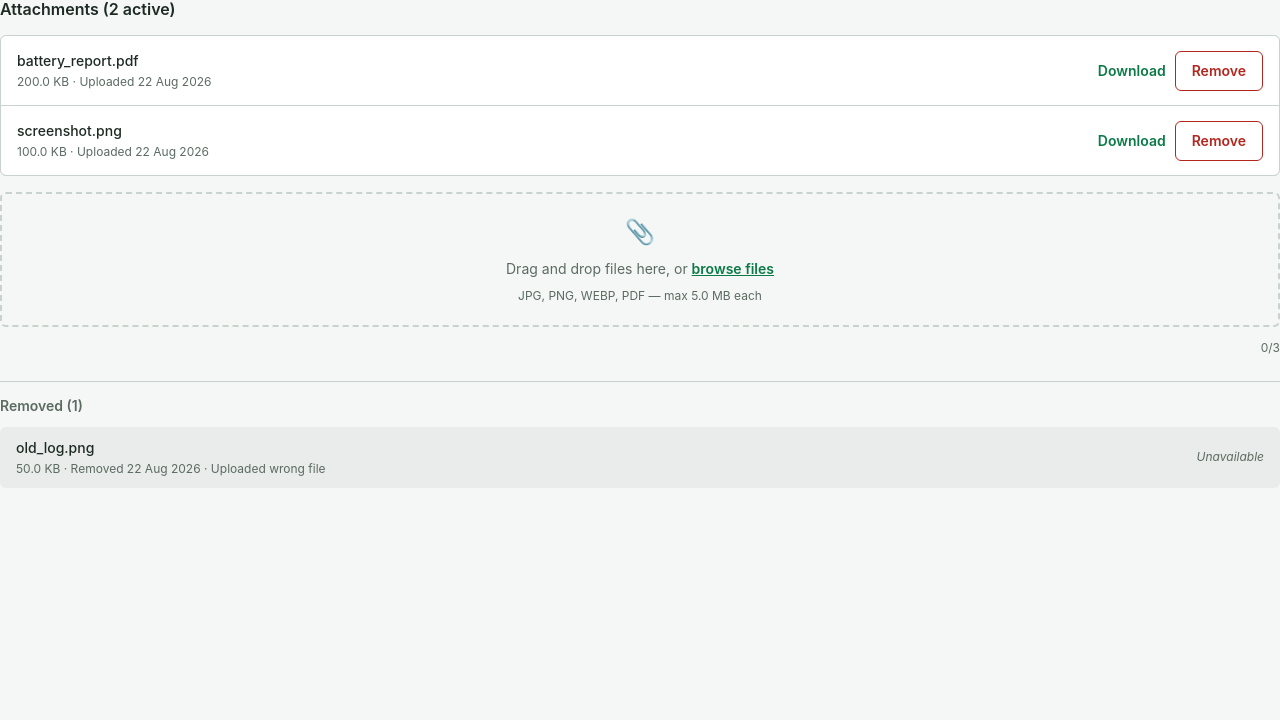
Test: UI-14 — Remove confirmation flow (AC-19, AC-20) › opens confirm dialog when Remove is clicked
Click the button "Remove" in the row of "battery_report.pdf" at (1219, 71), box [1175,51,1263,91]
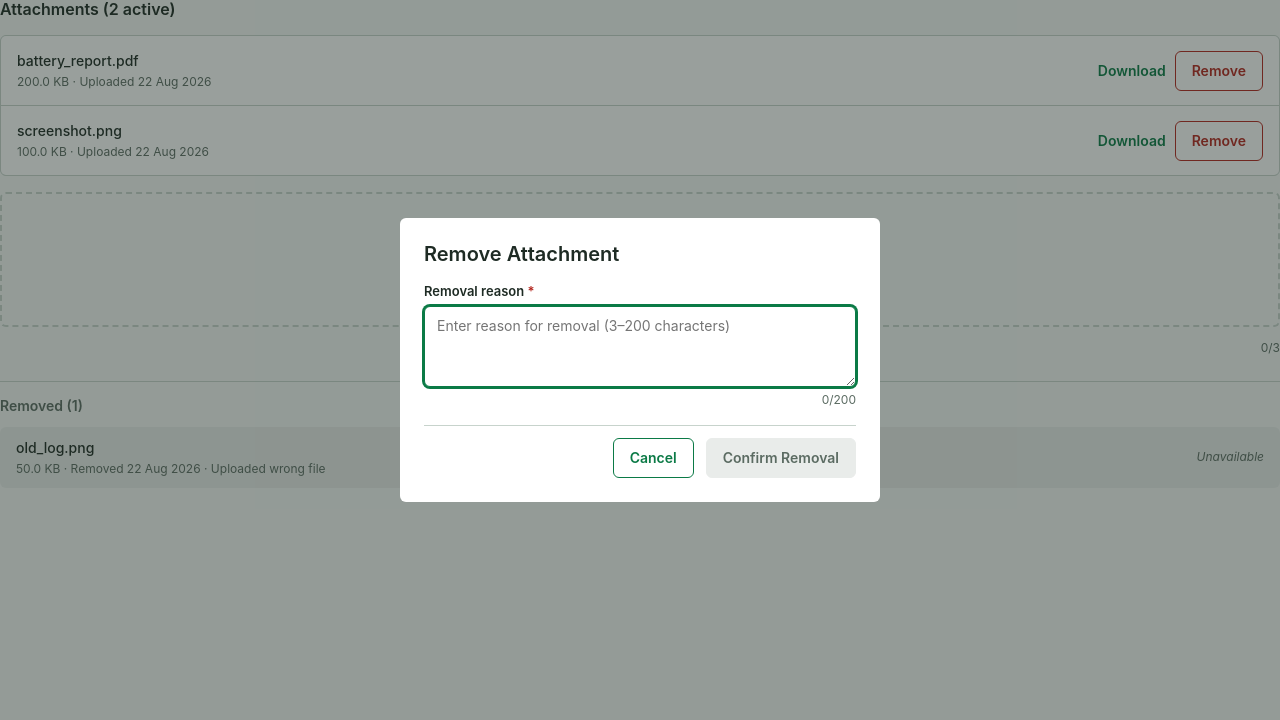
Expected: the heading "Remove Attachment" is shown, [424,242,619,266]
Expected: the text box with placeholder "Enter reason for removal (3–200 characters)" is shown, [424,306,856,387]
Expected: the button "Confirm Removal" is shown, [706,438,856,478]
